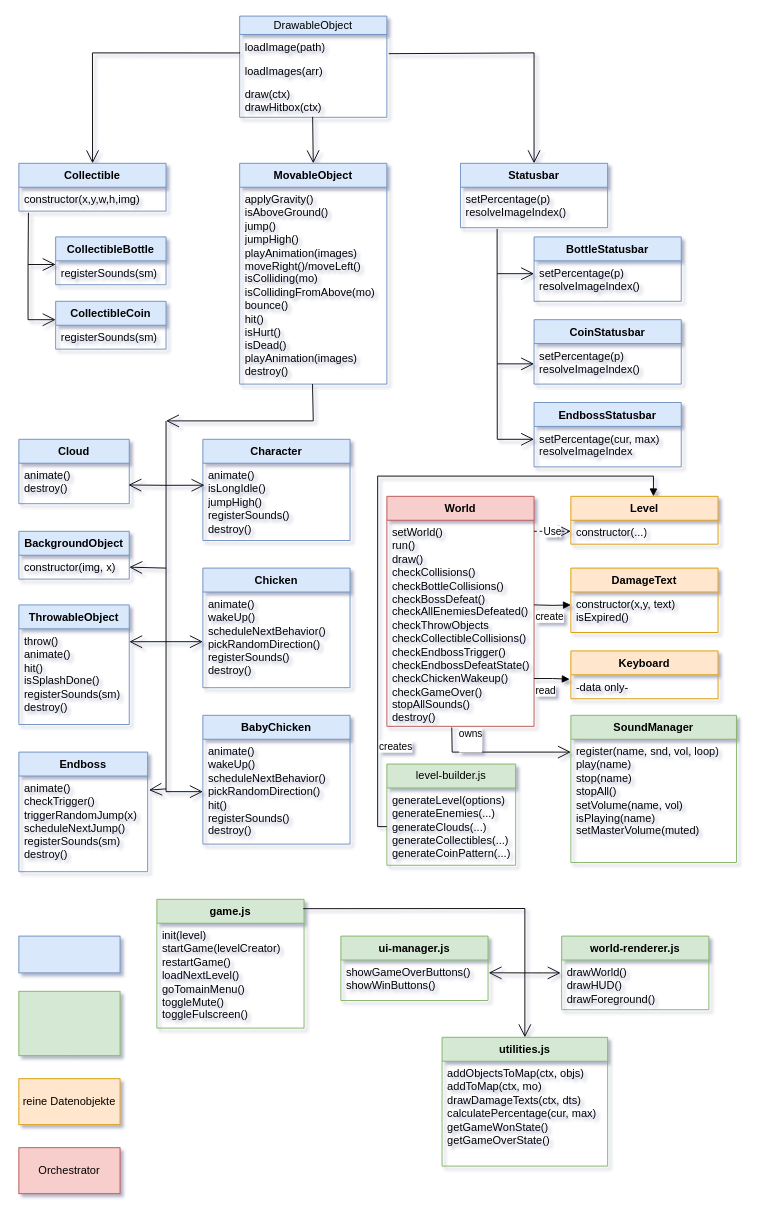
Some shapes in this 758 by 1215 pixel diagram are drawn without their labels. Each missing label, with the centre of its shape:
OOP-Architektur: point 69,954
Utility-Module => keine Erben, stateless Helperfuntions: point 69,1023
